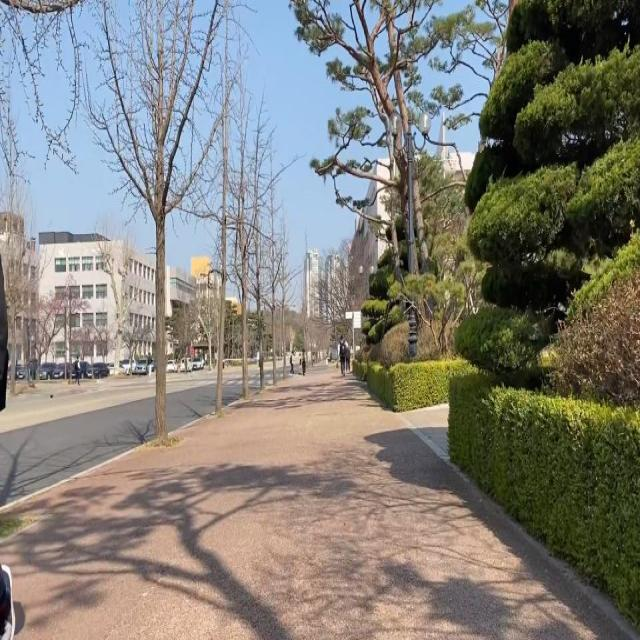sidewalk: (0, 370, 640, 640), (15, 382, 79, 395)
